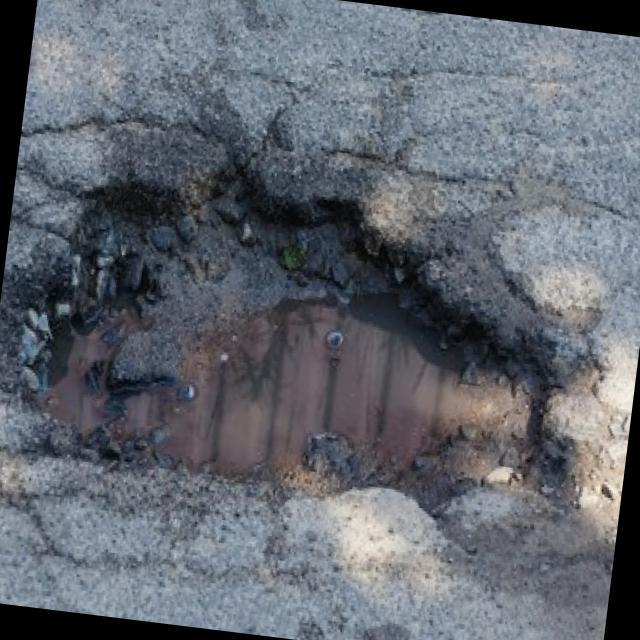Pothole: (0, 133, 582, 553)
